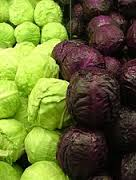cabbage: (70, 69, 117, 128), (59, 124, 108, 180), (16, 46, 59, 96), (30, 80, 70, 130)
